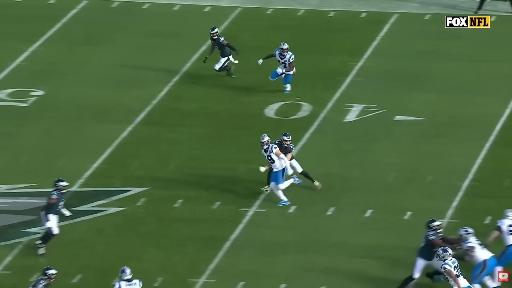Helmet: (426, 219, 442, 234), (436, 247, 452, 261), (42, 267, 57, 280), (54, 179, 69, 192), (459, 228, 474, 240), (119, 267, 132, 279), (281, 133, 291, 146), (261, 134, 270, 147), (280, 43, 289, 55), (210, 27, 219, 38), (504, 210, 511, 219)
Jersey: (461, 237, 494, 263), (442, 258, 469, 287), (418, 231, 442, 261), (262, 144, 286, 171), (43, 189, 64, 214), (211, 35, 231, 57), (496, 219, 511, 246), (275, 49, 294, 69), (274, 140, 294, 155), (114, 279, 142, 287), (29, 277, 49, 287)
Player: (399, 219, 457, 287), (261, 135, 301, 206), (35, 179, 71, 254), (274, 133, 321, 189), (459, 228, 499, 287), (258, 43, 295, 93), (204, 27, 238, 77), (436, 247, 471, 287), (488, 210, 511, 266), (114, 267, 142, 287), (29, 267, 57, 287)
